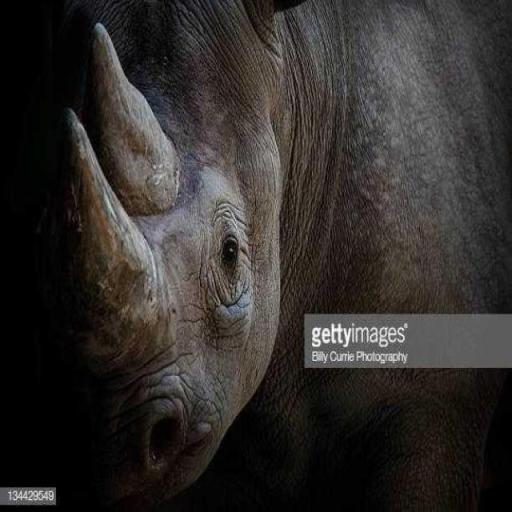Rhino: (33, 0, 510, 510)
